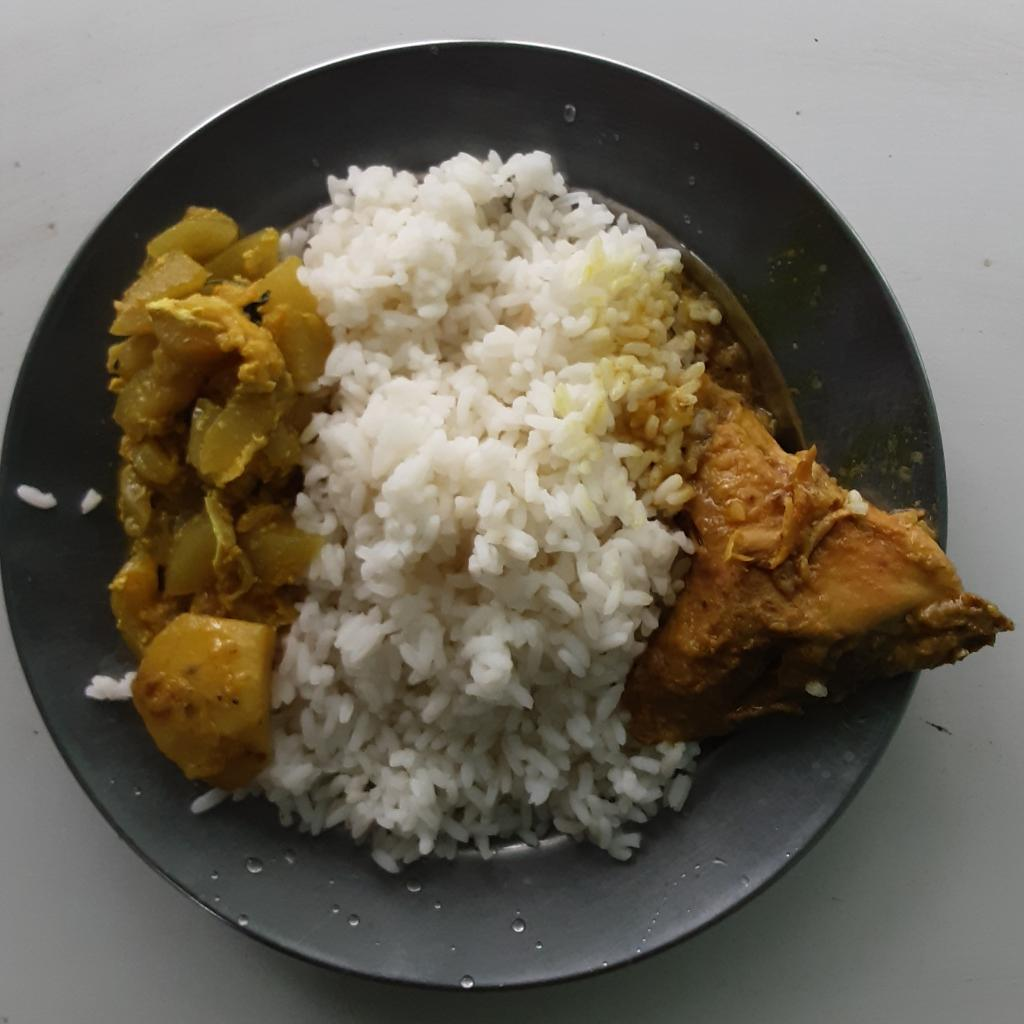fish: (623, 374, 1020, 750)
lau: (108, 200, 327, 661)
potato: (126, 613, 276, 789)
rice: (252, 147, 769, 874)
